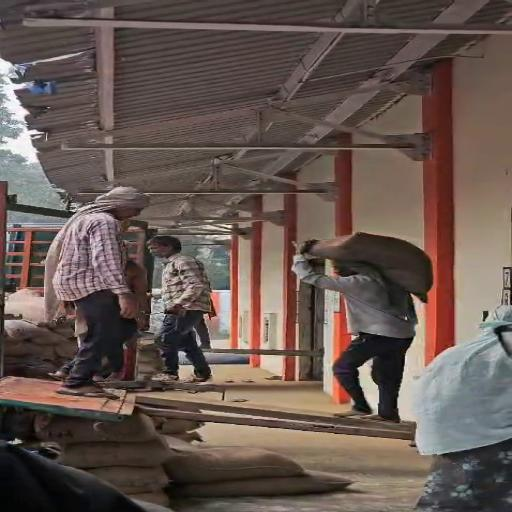bag: (310, 226, 444, 309)
